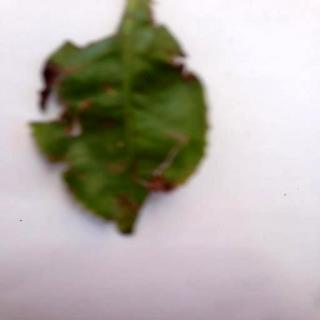Algal Leaf: (32, 1, 211, 243)
